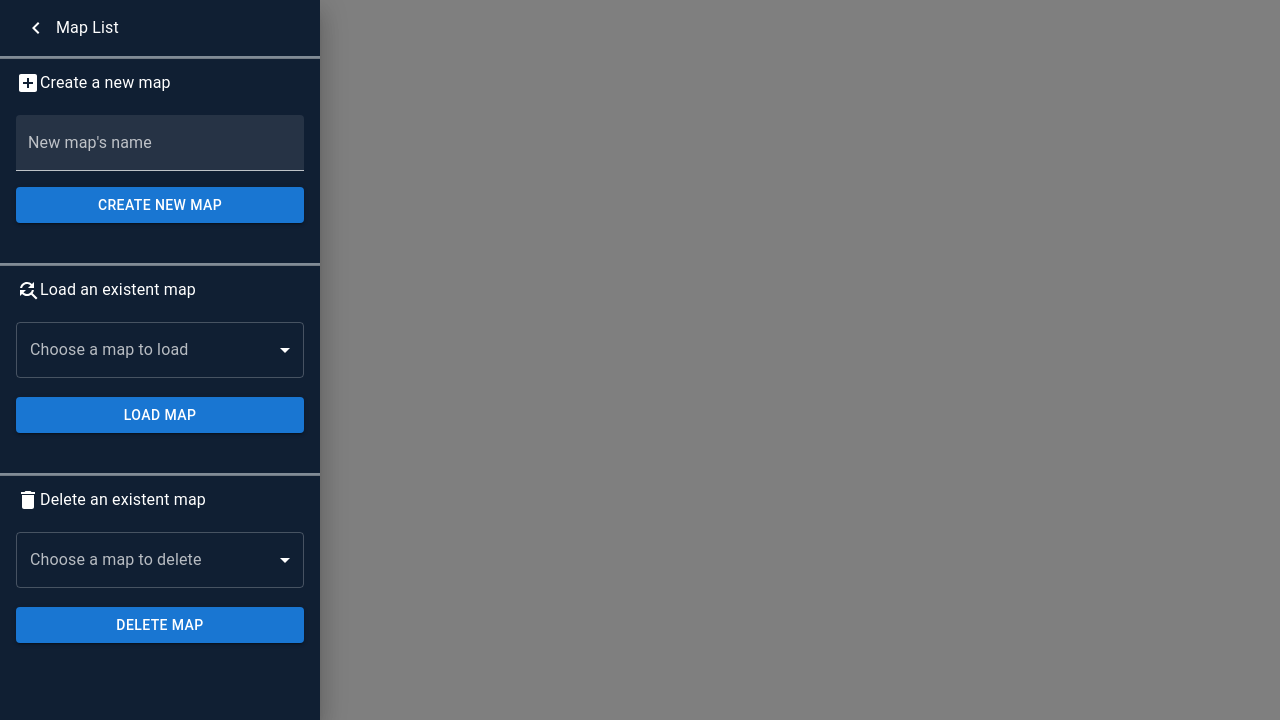
Test: check create map with valid name
Note: Escribimos el nombre del nuevo mapa
Type "NuevoMapa" into the field at (160, 143), box [16,115,304,171]
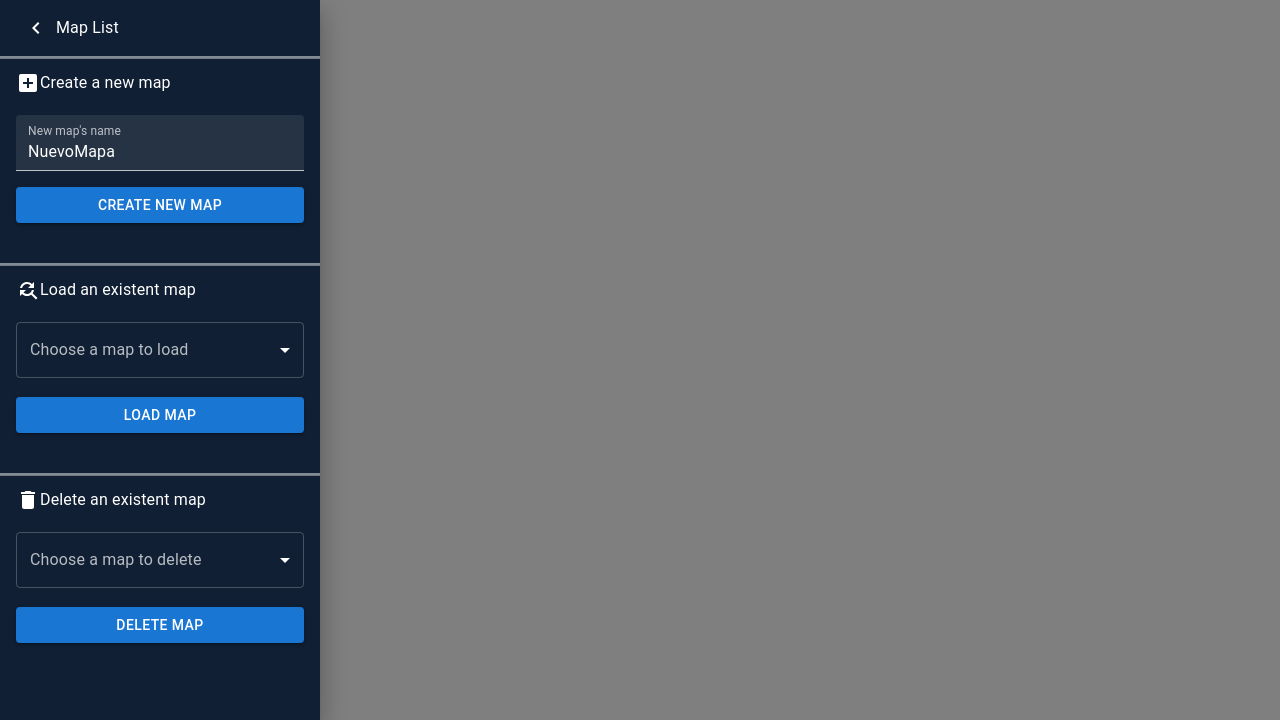
Note: Hacemos click sobre crear mapa
Click the button "Create new Map" at (160, 205), box [16,187,304,223]
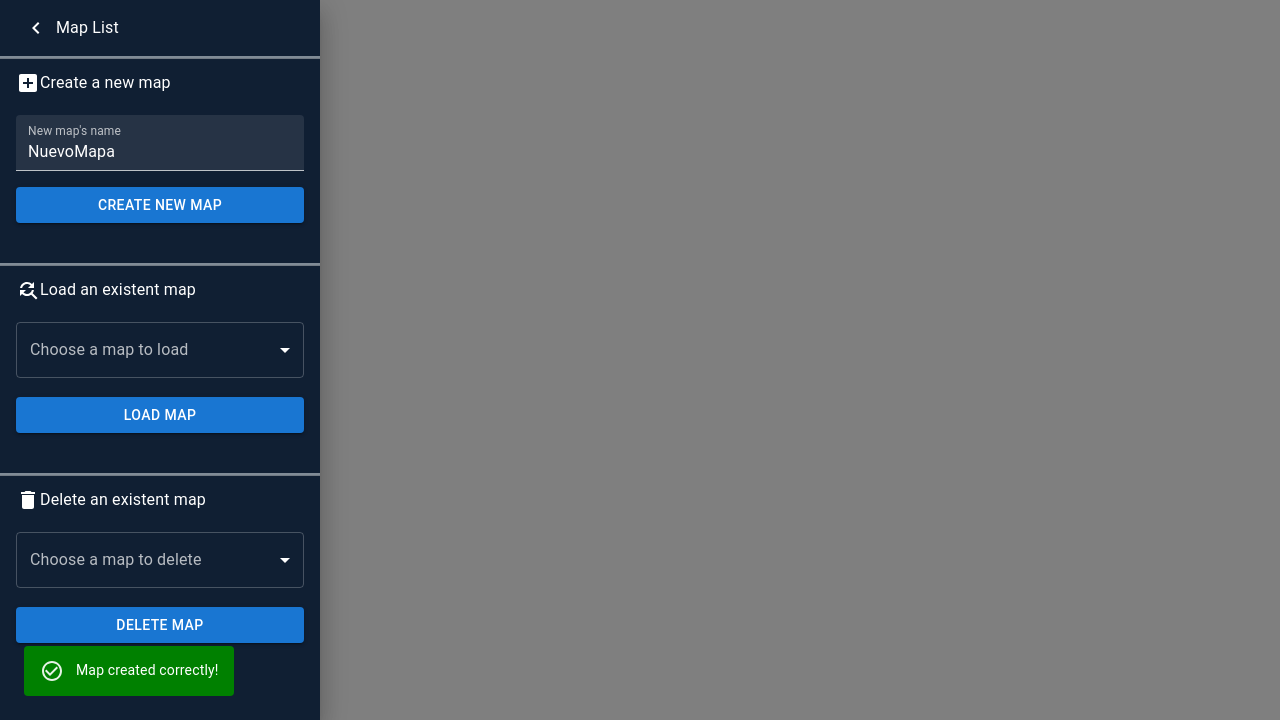
Result: the text "Map created correctly!" is shown at [76,662,218,678]
